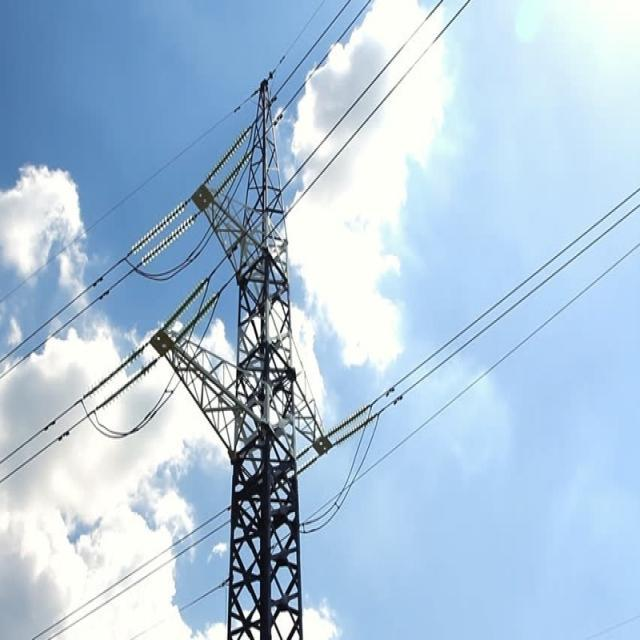non-critical vegetation: (150, 65, 356, 633)
